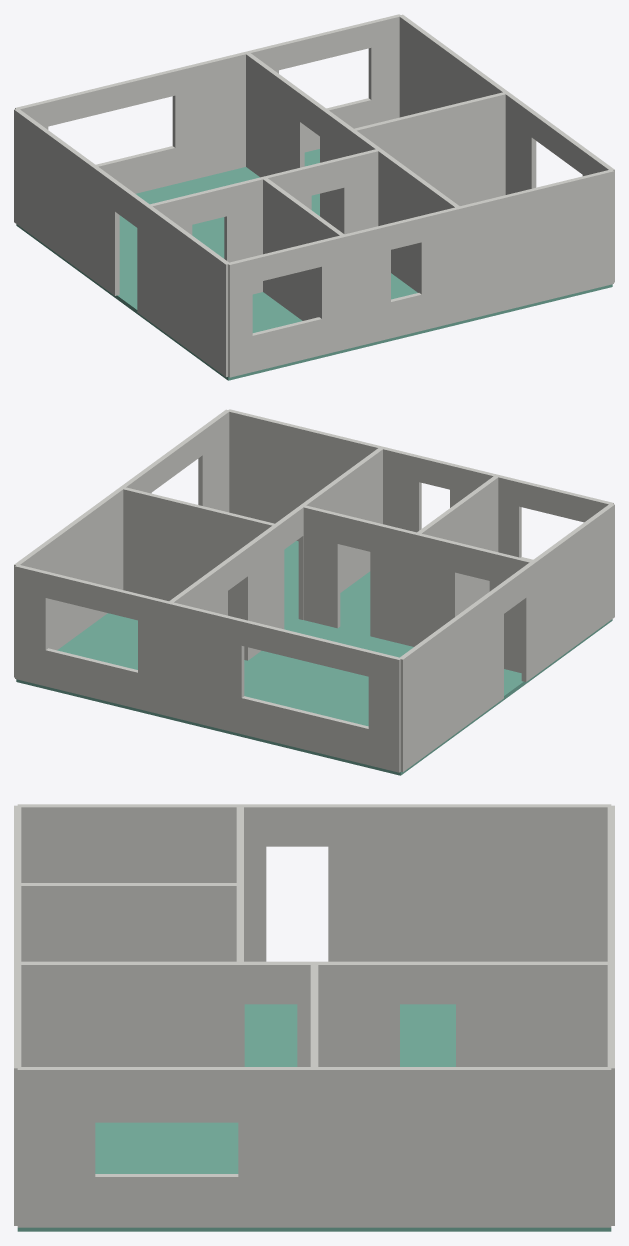
Rendered from structural.glb.
3 views of the same model, one above another, from view 1: azimuth 30°, elevation 25°; view 2: azimuth 150°, elevation 25°; view 3: azimuth 270°, elevation 25° (orthographic). The views are drawn at different scales.
Visible parts, largest first — view 1: Model part 8, Model part 9, Model part 6, Model part 10, Model part 7, Model part 11, Model part 12, Model part 13, Model part 1, Model part 2, Model part 3, Model part 5; view 2: Model part 6, Model part 9, Model part 8, Model part 12, Model part 7, Model part 10, Model part 11, Model part 1, Model part 13, Model part 4, Model part 3, Model part 5; view 3: Model part 7, Model part 9, Model part 10, Model part 13, Model part 5, Model part 1, Model part 6, Model part 8, Model part 4, Model part 12, Model part 11.
Boxes of the visible parts, <box> form: Model part 8: <box>227,170,613,377</box>; Model part 9: <box>14,109,229,377</box>; Model part 6: <box>15,14,401,193</box>; Model part 10: <box>246,52,459,292</box>; Model part 7: <box>399,14,614,282</box>; Model part 11: <box>352,92,505,205</box>; Model part 12: <box>150,149,380,294</box>; Model part 13: <box>263,178,345,320</box>; Model part 1: <box>16,167,259,321</box>; Model part 2: <box>148,292,343,380</box>; Model part 3: <box>343,273,458,352</box>; Model part 5: <box>459,284,612,324</box>; Model part 6: <box>15,564,401,772</box>; Model part 9: <box>399,503,614,772</box>; Model part 8: <box>228,409,613,560</box>; Model part 12: <box>301,505,532,672</box>; Model part 7: <box>14,409,229,677</box>; Model part 10: <box>168,447,383,660</box>; Model part 11: <box>121,487,276,619</box>; Model part 1: <box>170,619,533,775</box>; Model part 13: <box>417,475,498,614</box>; Model part 4: <box>16,613,244,719</box>; Model part 3: <box>339,571,370,634</box>; Model part 5: <box>284,541,300,629</box>; Model part 7: <box>17,1067,611,1227</box>; Model part 9: <box>17,804,611,961</box>; Model part 10: <box>18,961,611,1122</box>; Model part 13: <box>17,883,240,961</box>; Model part 5: <box>17,1122,314,1231</box>; Model part 1: <box>244,1004,455,1066</box>; Model part 6: <box>607,805,614,1225</box>; Model part 8: <box>14,805,21,1225</box>; Model part 4: <box>314,1227,611,1231</box>; Model part 12: <box>236,805,243,961</box>; Model part 11: <box>310,965,318,1067</box>.
Size of the model in its own units: 10.12 by 2.9 by 9.67.
